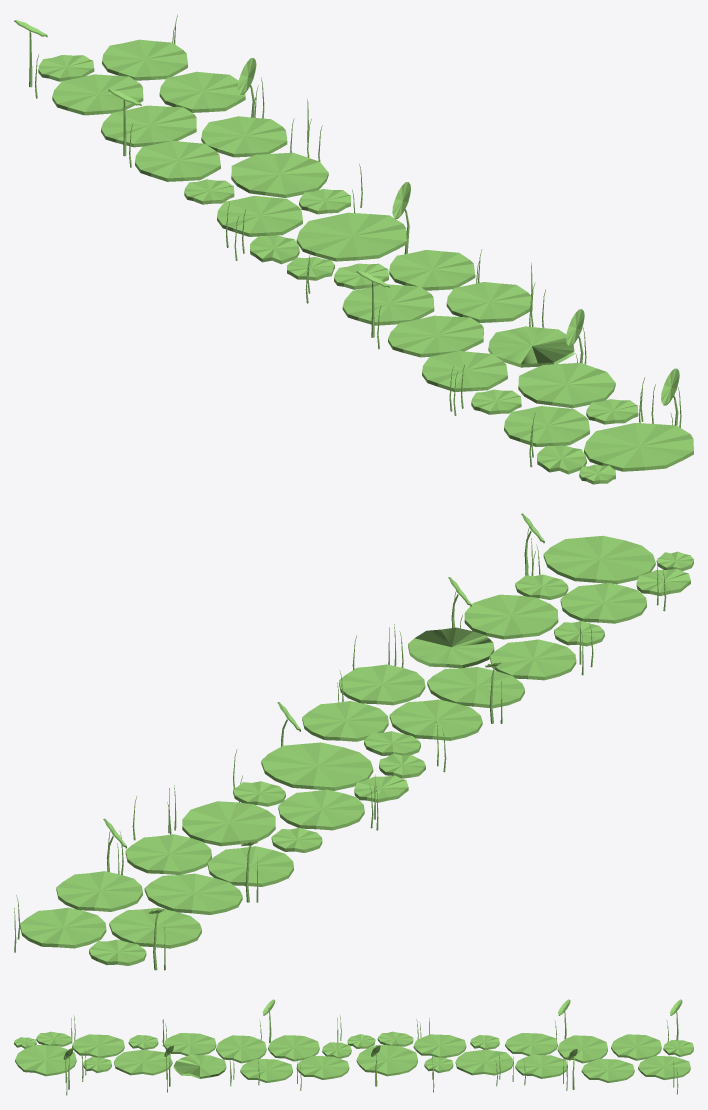
3 renders of one model, top to bottom at view 1: azimuth 30°, elevation 25°; view 2: azimuth 150°, elevation 25°; view 3: azimuth 270°, elevation 25°, orthographic. The views are drawn at different scales.
Parts seen in each view (by area): view 1: 荷叶_23, 荷叶_8, 荷叶_14, 荷叶_17, 荷叶_7, 荷叶_24, 荷叶_5, 荷叶_25, 荷叶_22, 荷叶_12, 荷叶_26, 荷叶_11 (+15 smaller); view 2: 荷叶_23, 荷叶_8, 荷叶_14, 荷叶_17, 荷叶_24, 荷叶_7, 荷叶_5, 荷叶_25, 荷叶_11, 荷叶_26, 荷叶_6, 荷叶_2_2 (+15 smaller); view 3: 荷叶_8, 荷叶_23, 荷叶_17, 荷叶_14, 荷叶_7, 荷叶_5, 荷叶_24, 荷叶_25, 荷叶_19, 荷叶_2_2, 荷叶_15, 荷叶_9 (+16 smaller).
Part boxes in pixels (x1,y1,x2,y2): 荷叶_23: (296,212,406,261); 荷叶_8: (584,423,693,471); 荷叶_14: (518,362,615,408); 荷叶_17: (231,152,328,197); 荷叶_7: (388,315,483,357); 荷叶_24: (101,105,196,147); 荷叶_5: (342,284,434,325); 荷叶_25: (52,74,143,115); 荷叶_22: (135,140,220,181); 荷叶_12: (422,351,507,391); 荷叶_26: (217,196,302,236); 荷叶_11: (102,39,187,80); 荷叶_23: (261,742,373,790); 荷叶_8: (543,535,655,584); 荷叶_14: (464,594,558,639); 荷叶_17: (182,801,275,846); 荷叶_24: (144,873,242,914); 荷叶_7: (427,667,524,708); 荷叶_5: (389,699,482,740); 荷叶_25: (109,907,201,948); 荷叶_11: (20,907,106,948); 荷叶_26: (278,789,364,830); 荷叶_6: (125,834,211,874); 荷叶_2_2: (560,583,646,623); 荷叶_8: (15,1045,76,1076); 荷叶_23: (356,1045,417,1076); 荷叶_17: (455,1049,513,1075); 荷叶_14: (114,1049,172,1075); 荷叶_7: (216,1035,266,1063); 荷叶_5: (268,1035,319,1061); 荷叶_24: (557,1035,607,1063); 荷叶_25: (611,1034,661,1060); 荷叶_19: (173,1054,226,1078); 荷叶_2_2: (72,1034,124,1057); 荷叶_15: (296,1056,349,1079); 荷叶_9: (581,1058,634,1082).
Size of the model in its own units: 504 by 267 by 2990.
